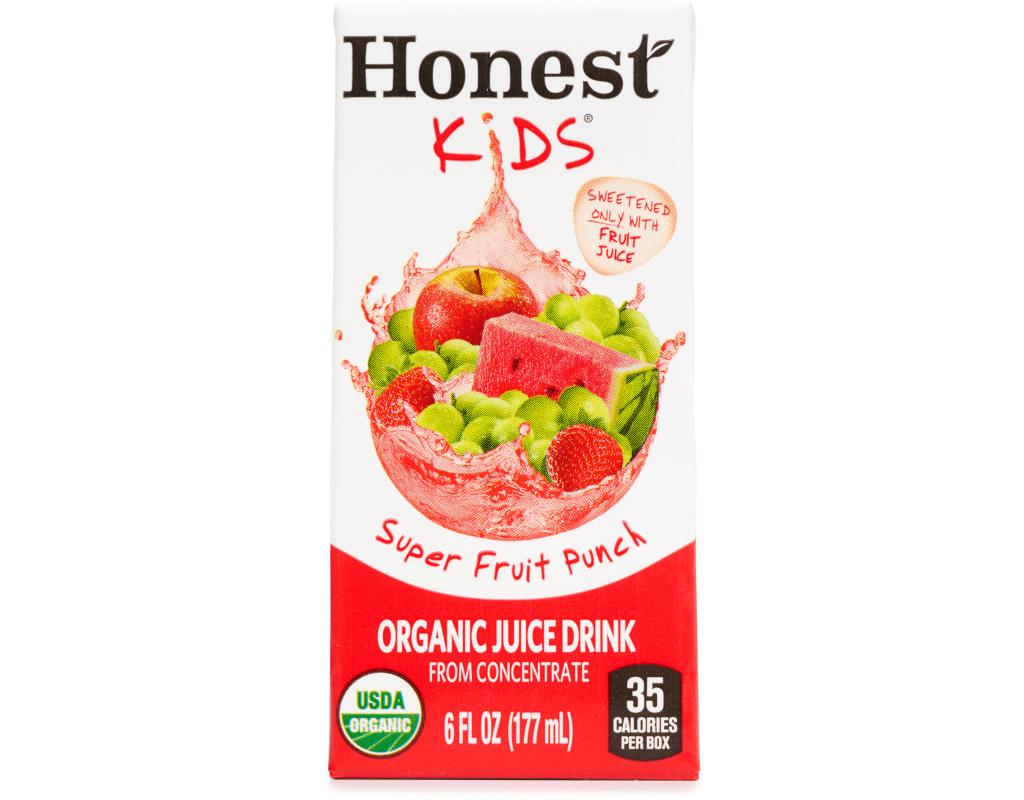Juice_Box: (332, 4, 697, 779)
